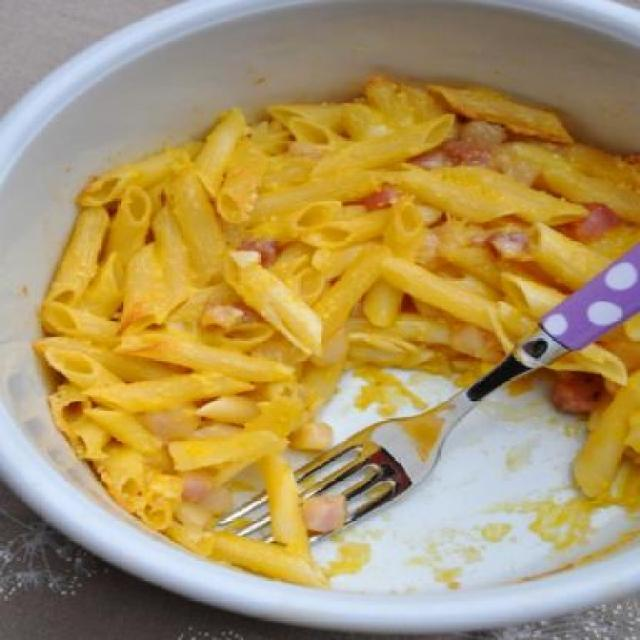Pasta with carbonara sauce: (50, 43, 632, 632)
